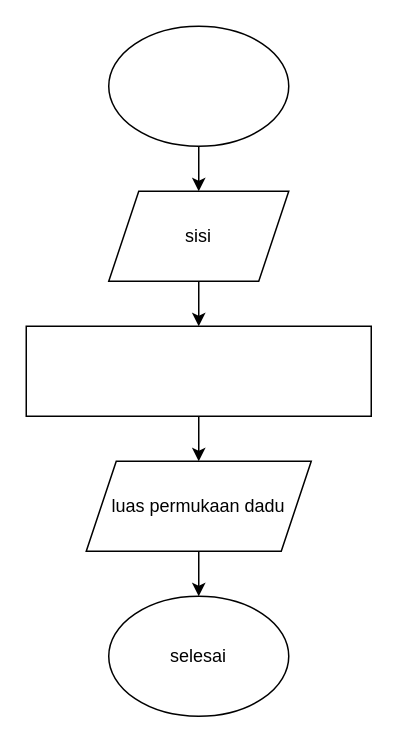
Image size: 398x743. Some labels were removed from this diagram. Here are the shapes that lost their labels. From the top down, the centre of each, then its label:
At point 198,85: "mulai".
At point 198,370: "luas permukaan dadu = (sisi x sisi) x 6".
